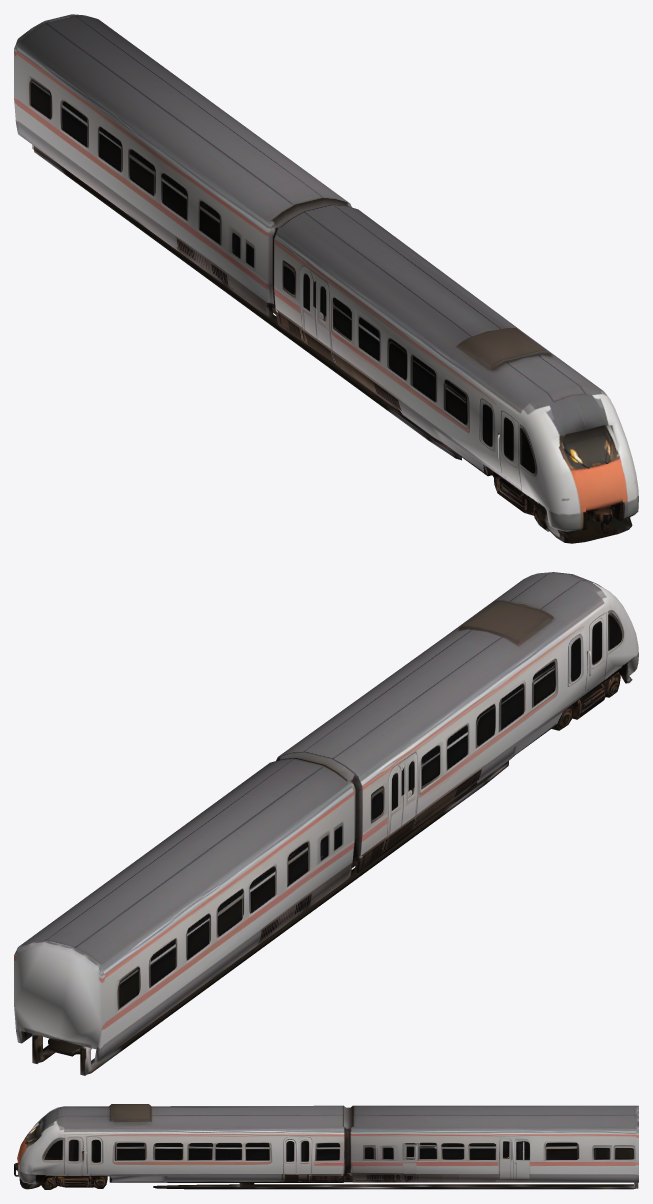
File: train_realistic_style_11dcf141_v3.glb
3 renders of one model, top to bottom at view 1: azimuth 30°, elevation 25°; view 2: azimuth 150°, elevation 25°; view 3: azimuth 270°, elevation 25°, orthographic. The views are drawn at different scales.
Parts seen in each view (by area): view 1: texture_pbr_20250901; view 2: texture_pbr_20250901; view 3: texture_pbr_20250901.
Boxes of the visible parts, x1,y1,x2,y2 form: texture_pbr_20250901: [14, 14, 638, 543]; texture_pbr_20250901: [14, 572, 638, 1075]; texture_pbr_20250901: [14, 1104, 638, 1189].
Size of the model in its own units: 0.1876 by 0.2383 by 1.9.
Materials: 1 (1 with a texture image).
